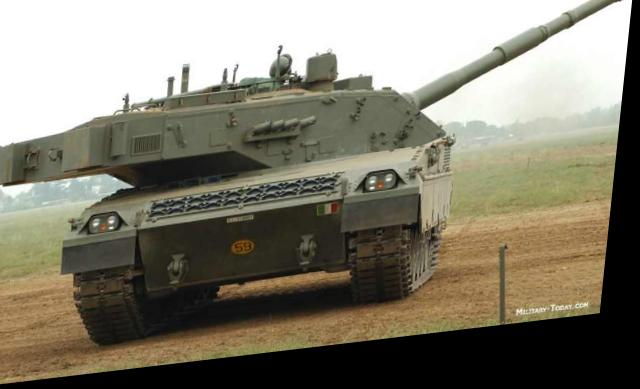other: (54, 44, 463, 353)
